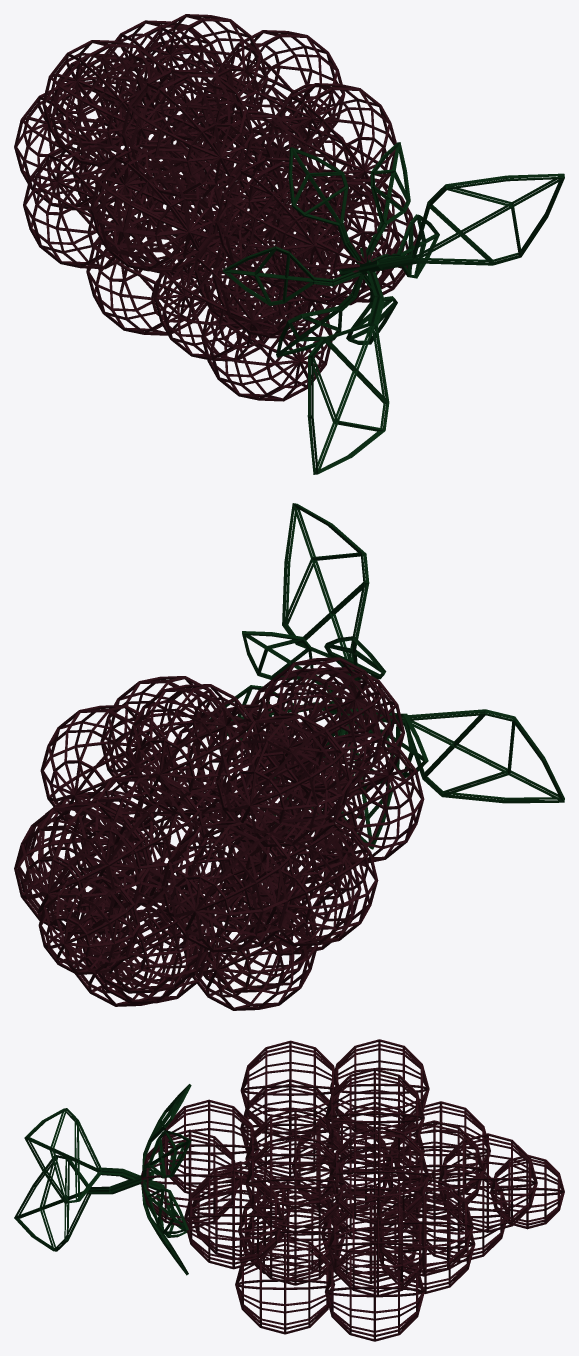
File: wire_anggur.obj
3 renders of one model, top to bottom at view 1: azimuth 30°, elevation 25°; view 2: azimuth 150°, elevation 25°; view 3: azimuth 270°, elevation 25°, orthographic. The views are drawn at different scales.
Visible parts, largest first — view 1: Sphere.018_Sphere.000, Sphere.011_Sphere.000, Sphere.003_Sphere.000, Sphere.008_Sphere.000, Sphere.002_Sphere.000, Sphere.001_Sphere.006, Sphere.012_Sphere.000, Sphere.020_Sphere.000, Sphere.007_Sphere.000, Sphere.026_Sphere.000, Plane.000_Plane.001, Sphere.019_Sphere.000 (+22 smaller); view 2: Sphere.003_Sphere.000, Sphere.021_Sphere.000, Sphere.001_Sphere.006, Sphere.018_Sphere.000, Sphere.002_Sphere.000, Sphere.023_Sphere.000, Sphere.007_Sphere.000, Sphere.011_Sphere.000, Sphere.017_Sphere.000, Sphere.004_Sphere.000, Sphere.025_Sphere.000, Sphere.024_Sphere.000 (+21 smaller); view 3: Sphere.012_Sphere.000, Sphere.007_Sphere.000, Sphere.001_Sphere.006, Sphere.018_Sphere.000, Sphere.015_Sphere.000, Sphere.023_Sphere.000, Sphere.006_Sphere.000, Sphere.016_Sphere.000, Sphere.019_Sphere.000, Sphere.022_Sphere.000, Sphere.003_Sphere.000, Sphere.017_Sphere.000 (+21 smaller).
Part boxes in pixels (box(x1,y1,x2,y2)): Sphere.018_Sphere.000: box(121, 69, 253, 197); Sphere.011_Sphere.000: box(90, 144, 222, 272); Sphere.003_Sphere.000: box(42, 40, 174, 166); Sphere.008_Sphere.000: box(215, 157, 347, 285); Sphere.002_Sphere.000: box(23, 141, 154, 269); Sphere.001_Sphere.006: box(136, 14, 268, 141); Sphere.012_Sphere.000: box(265, 83, 396, 210); Sphere.020_Sphere.000: box(154, 234, 284, 361); Sphere.007_Sphere.000: box(215, 30, 345, 157); Sphere.026_Sphere.000: box(268, 177, 400, 305); Plane.000_Plane.001: box(339, 173, 564, 275); Sphere.019_Sphere.000: box(201, 275, 332, 401); Sphere.003_Sphere.000: box(216, 715, 351, 846); Sphere.021_Sphere.000: box(161, 820, 297, 952); Sphere.001_Sphere.006: box(125, 684, 261, 815); Sphere.018_Sphere.000: box(255, 657, 390, 788); Sphere.002_Sphere.000: box(242, 814, 378, 946); Sphere.023_Sphere.000: box(14, 803, 149, 934); Sphere.007_Sphere.000: box(40, 704, 176, 836); Sphere.011_Sphere.000: box(288, 733, 424, 864); Sphere.017_Sphere.000: box(71, 774, 207, 905); Sphere.004_Sphere.000: box(182, 879, 317, 1010); Sphere.025_Sphere.000: box(38, 876, 140, 974); Sphere.024_Sphere.000: box(79, 862, 213, 993); Sphere.012_Sphere.000: box(245, 1134, 345, 1233); Sphere.007_Sphere.000: box(329, 1126, 429, 1225); Sphere.001_Sphere.006: box(325, 1068, 424, 1167); Sphere.018_Sphere.000: box(240, 1040, 339, 1139); Sphere.015_Sphere.000: box(184, 1169, 283, 1269); Sphere.023_Sphere.000: box(438, 1133, 537, 1232); Sphere.006_Sphere.000: box(327, 1197, 427, 1297); Sphere.016_Sphere.000: box(325, 1242, 424, 1341); Sphere.019_Sphere.000: box(235, 1235, 335, 1334); Sphere.022_Sphere.000: box(373, 1178, 473, 1276); Sphere.003_Sphere.000: box(329, 1039, 429, 1136); Sphere.017_Sphere.000: box(384, 1120, 484, 1219).
Size of the model in its own units: 2.24 by 2.27 by 4.4.
